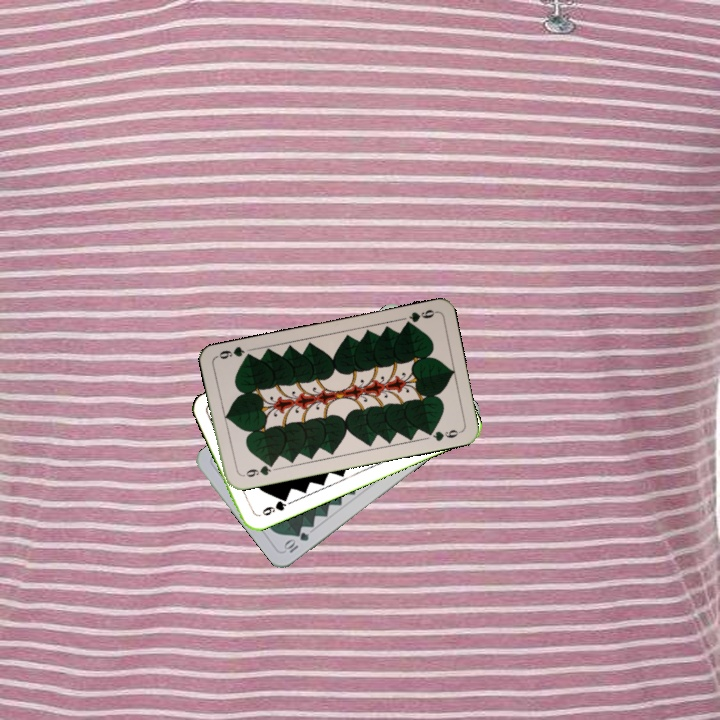G10: (280, 528, 312, 556)
G9: (400, 305, 439, 329), (238, 459, 277, 480), (258, 493, 290, 518)
